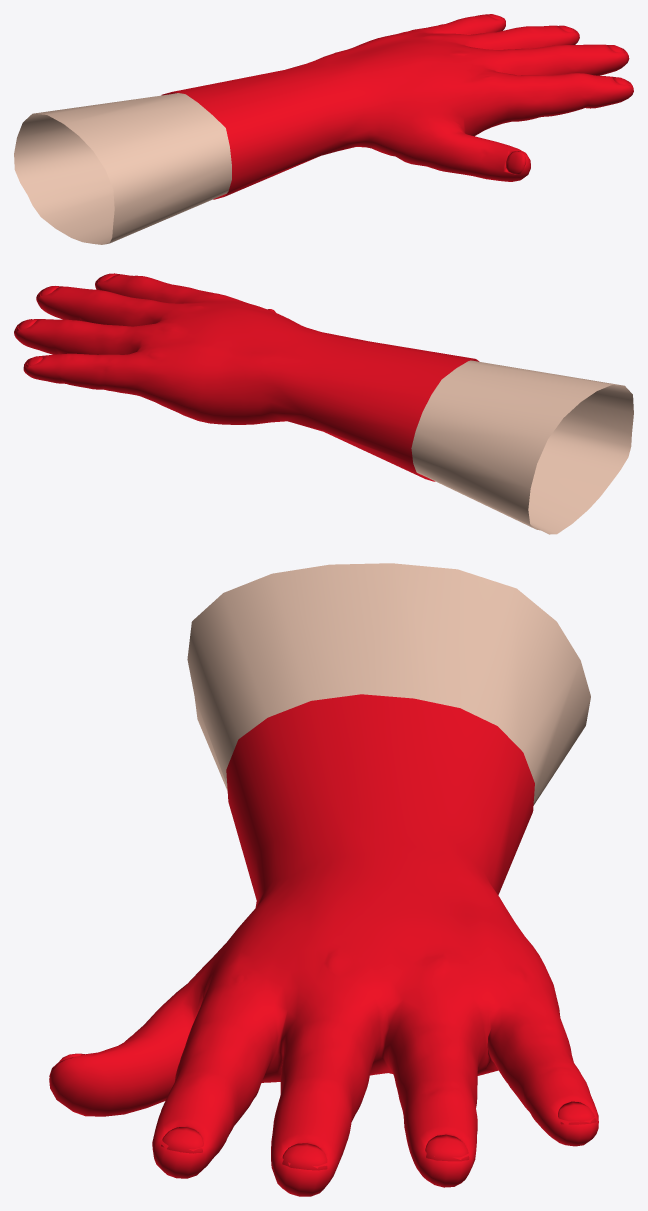
Rendered from HandWIthGlove.fbx.
3 views of the same model, one above another, from view 1: azimuth 30°, elevation 25°; view 2: azimuth 150°, elevation 25°; view 3: azimuth 270°, elevation 25° (orthographic). The views are drawn at different scales.
Visible parts, largest first — view 1: hand.002, hand; view 2: hand.002, hand; view 3: hand.002, hand.
Boxes of the visible parts, bbox=[...] form: hand.002: bbox=[161, 14, 633, 199]; hand: bbox=[14, 93, 231, 244]; hand.002: bbox=[14, 273, 479, 481]; hand: bbox=[411, 360, 633, 534]; hand.002: bbox=[49, 694, 598, 1196]; hand: bbox=[187, 563, 590, 805].
Size of the model in its own units: 51.45 by 10.04 by 22.61.
